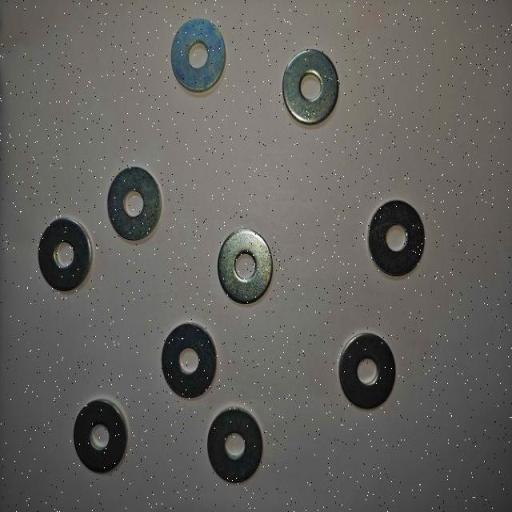washer: (367, 200, 426, 278), (282, 48, 340, 126), (338, 332, 396, 410), (206, 406, 264, 484), (216, 229, 274, 305), (170, 17, 226, 92), (106, 166, 162, 241), (73, 398, 128, 473), (162, 322, 216, 398), (38, 218, 92, 293)
